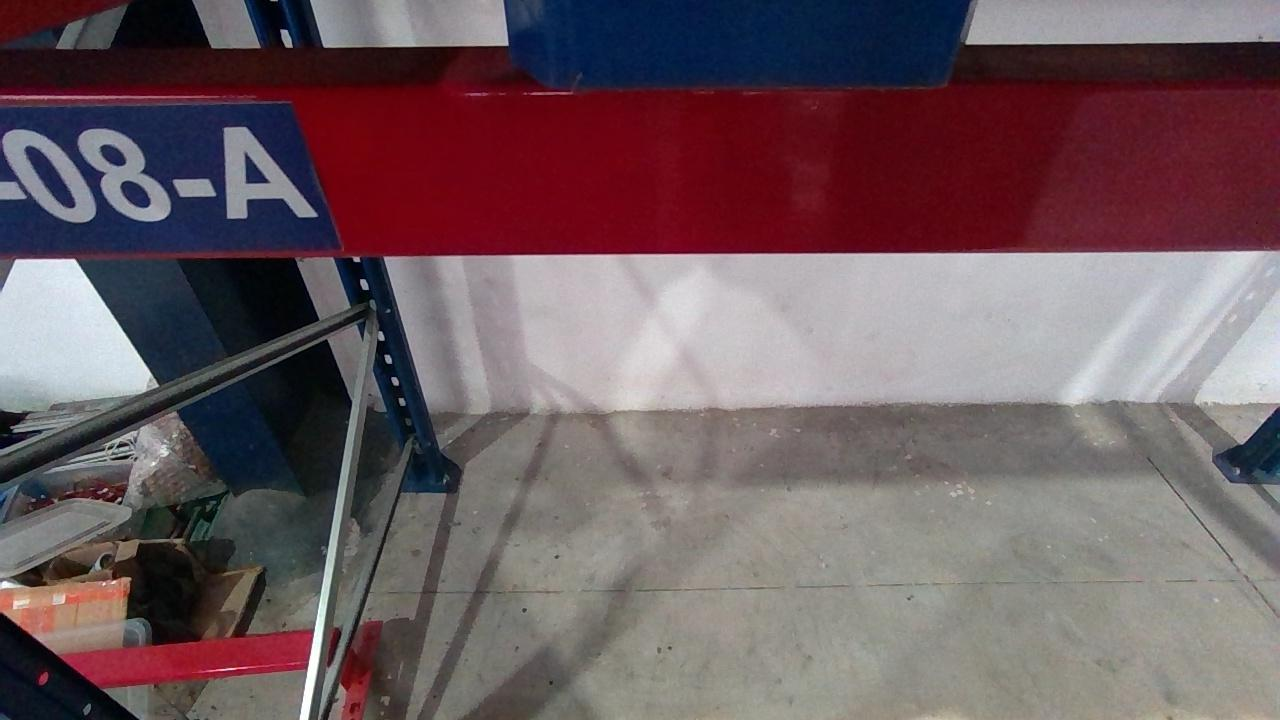h_rack: (0, 81, 1280, 257)
